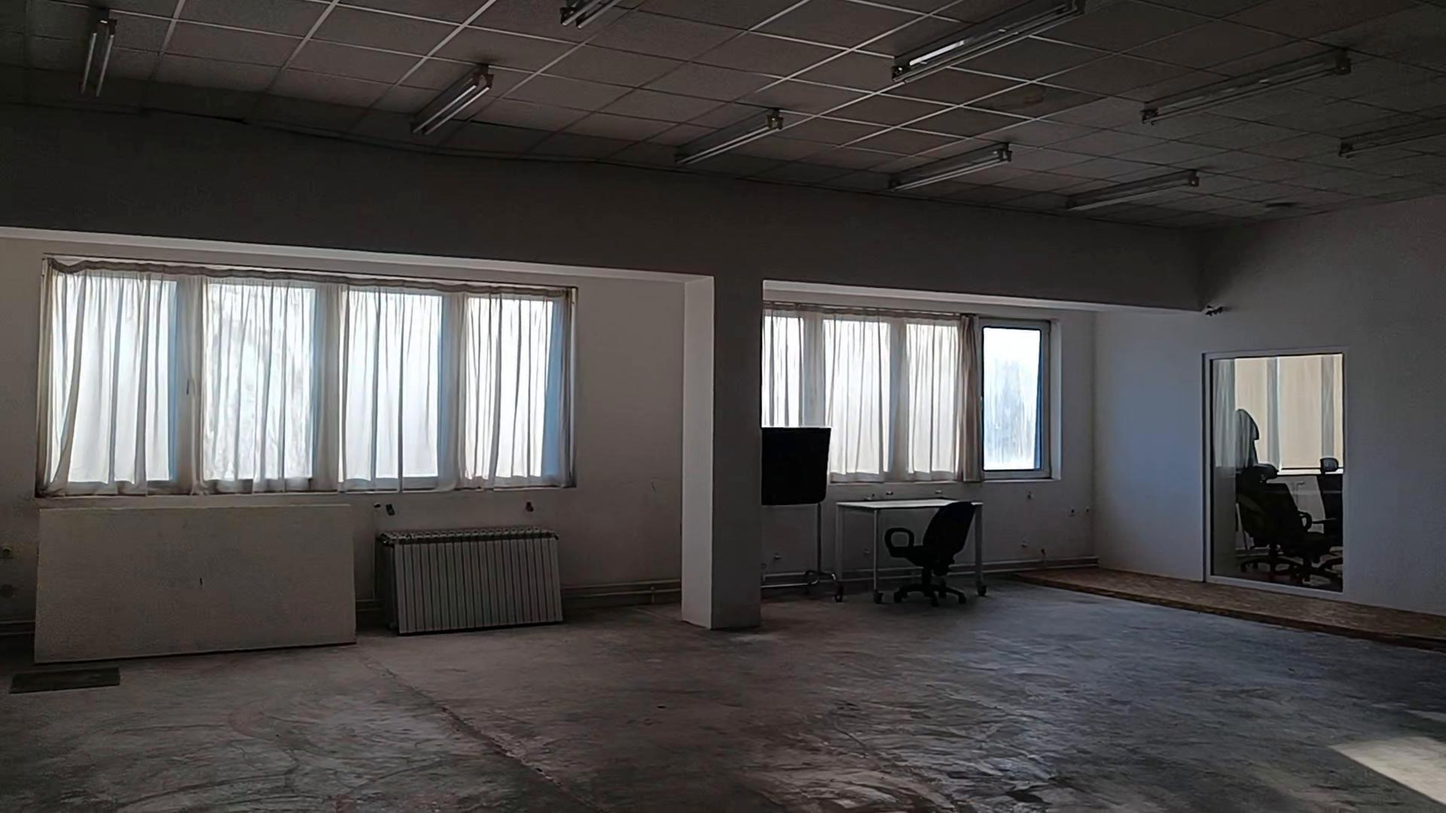ceiling: (0, 0, 1445, 224)
floor: (0, 583, 1445, 812)
wall: (3, 105, 1199, 626), (1095, 198, 1445, 608), (576, 289, 684, 587), (984, 314, 1098, 555)
